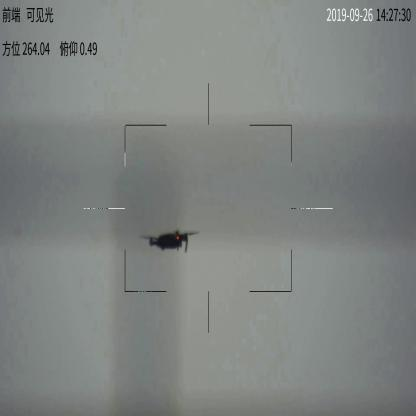uav: (140, 228, 202, 255)
